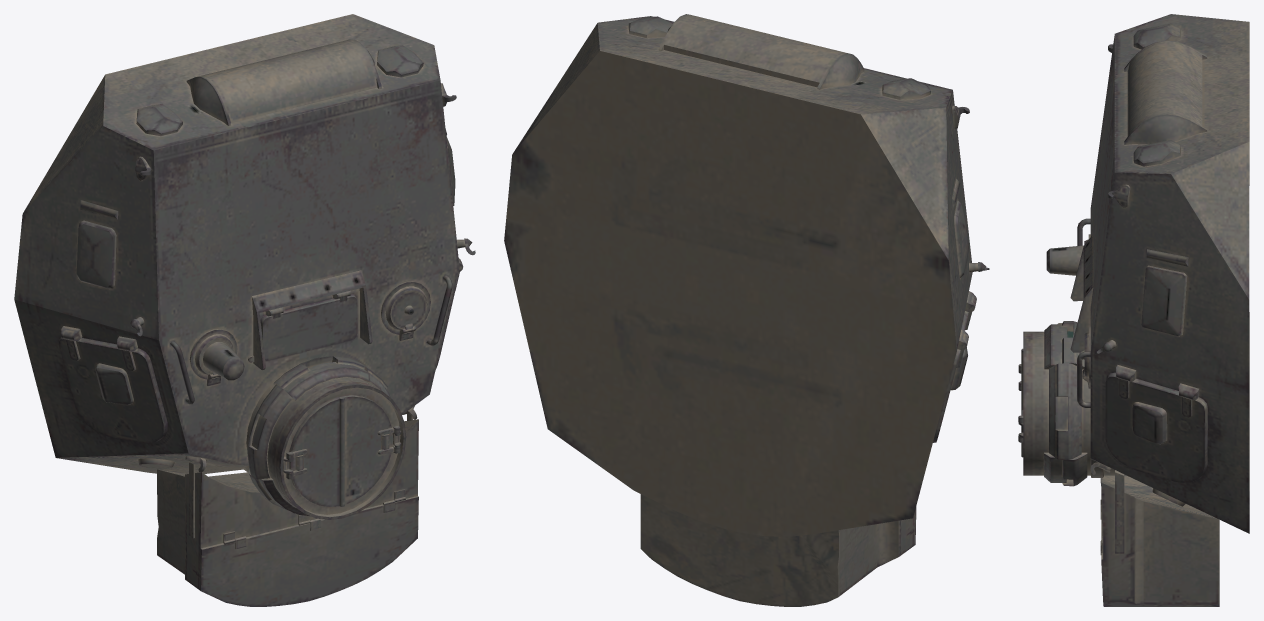
The model's file is Turret_02.glb.
The picture shows the model from 3 angles, left to right: view 1: azimuth 30°, elevation 25°; view 2: azimuth 150°, elevation 25°; view 3: azimuth 270°, elevation 25°; orthographic projection. The views are drawn at different scales.
Visible parts, largest first — view 1: set_0_group_0; view 2: set_0_group_0; view 3: set_0_group_0.
Boxes of the visible parts, x1,y1,x2,y2 form: set_0_group_0: [14, 14, 475, 606]; set_0_group_0: [504, 14, 989, 606]; set_0_group_0: [1018, 14, 1249, 606].
Size of the model in its own units: 2.15 by 2.46 by 1.01.
Materials: 1 (1 with a texture image).
